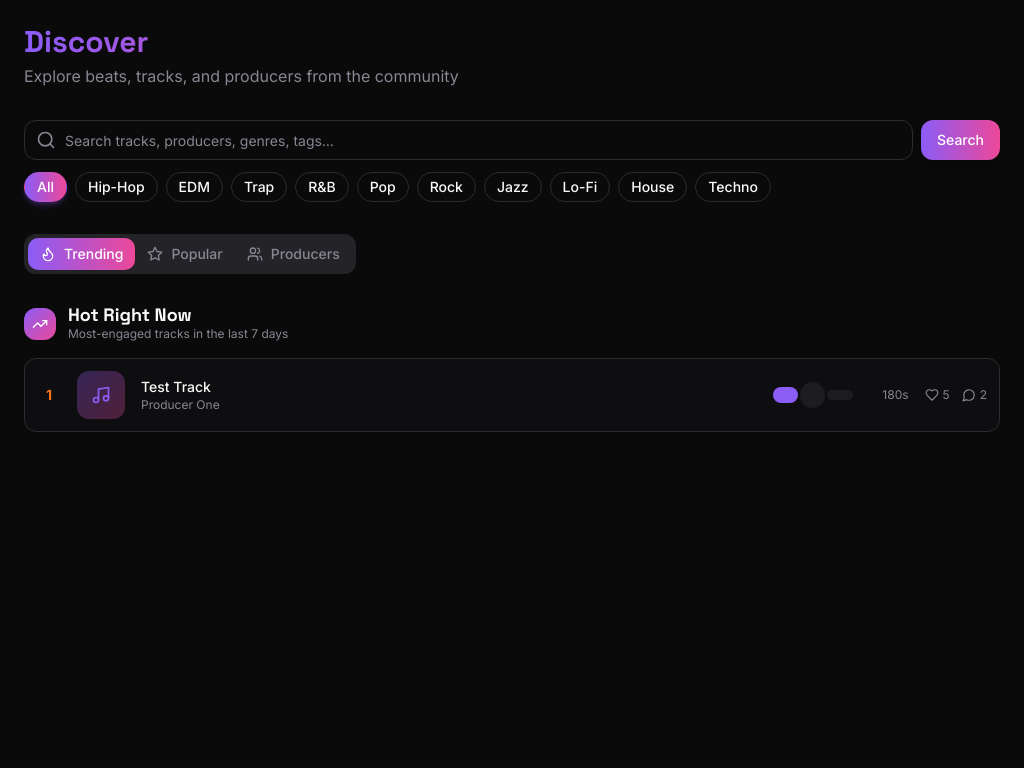
Test: Discover page › performs search and shows track results
Check: the heading "Discover" is shown, box [24,24,1000,60]
Step 1. Type "trap" into the field with placeholder "Search tracks, producers, genres, tags…" → (468, 140), box [24,120,913,160]
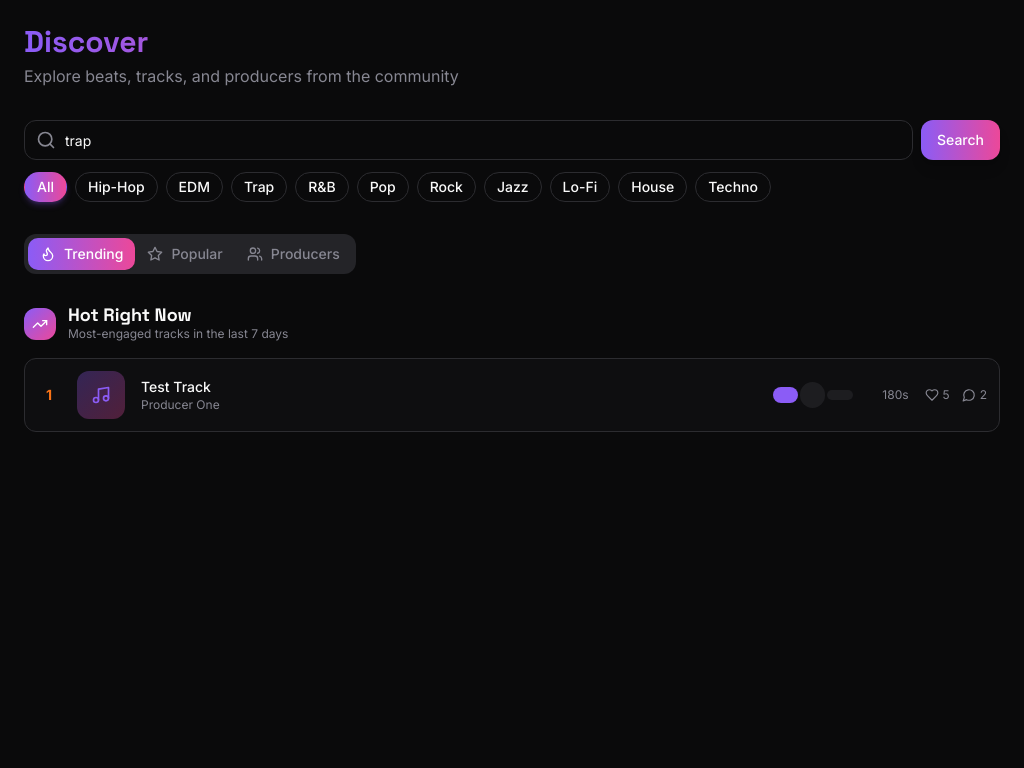
Step 2. Submit the form with placeholder "search tracks", box [24,120,1000,160]
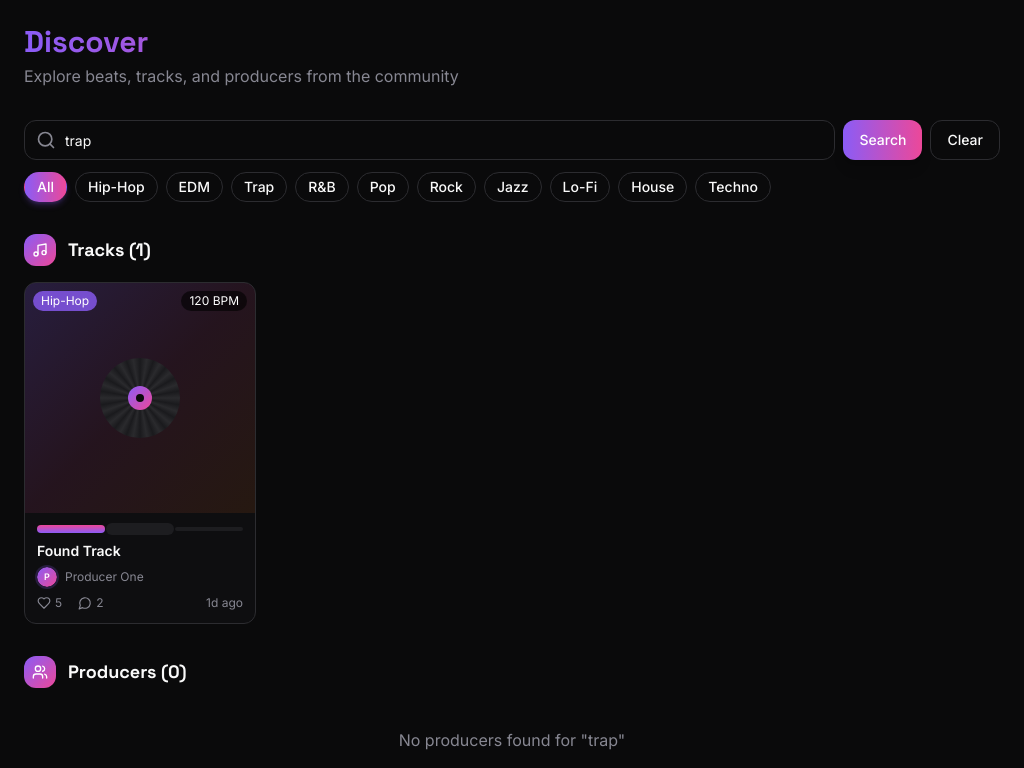
Check: the heading "Tracks (1)" is shown, box [68,241,151,259]
